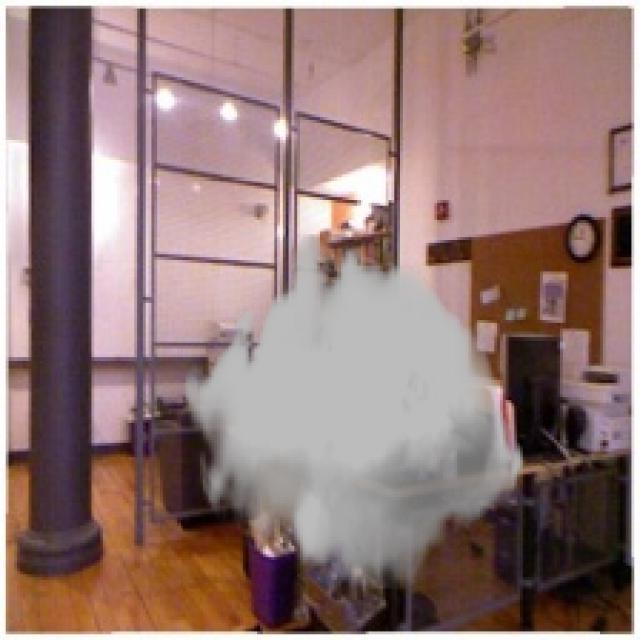smoke: (183, 234, 526, 589)
